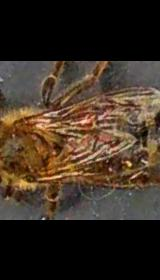varroa_mite: (64, 103, 98, 136)
